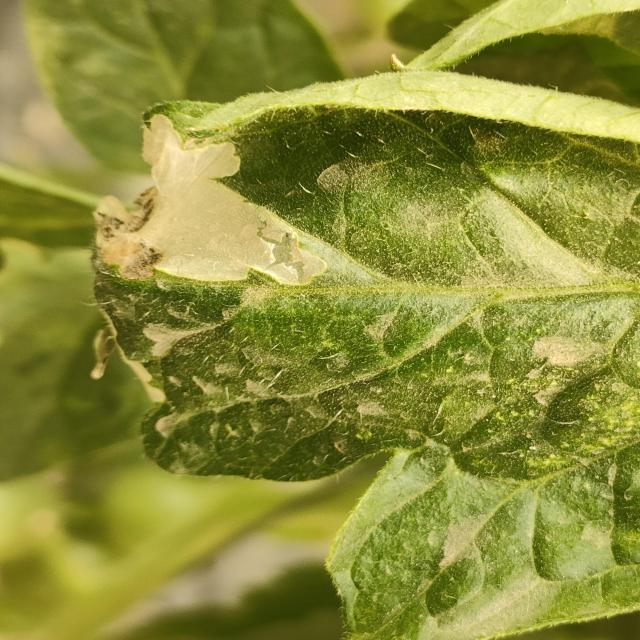Tuta absoluta: (92, 113, 331, 286)
